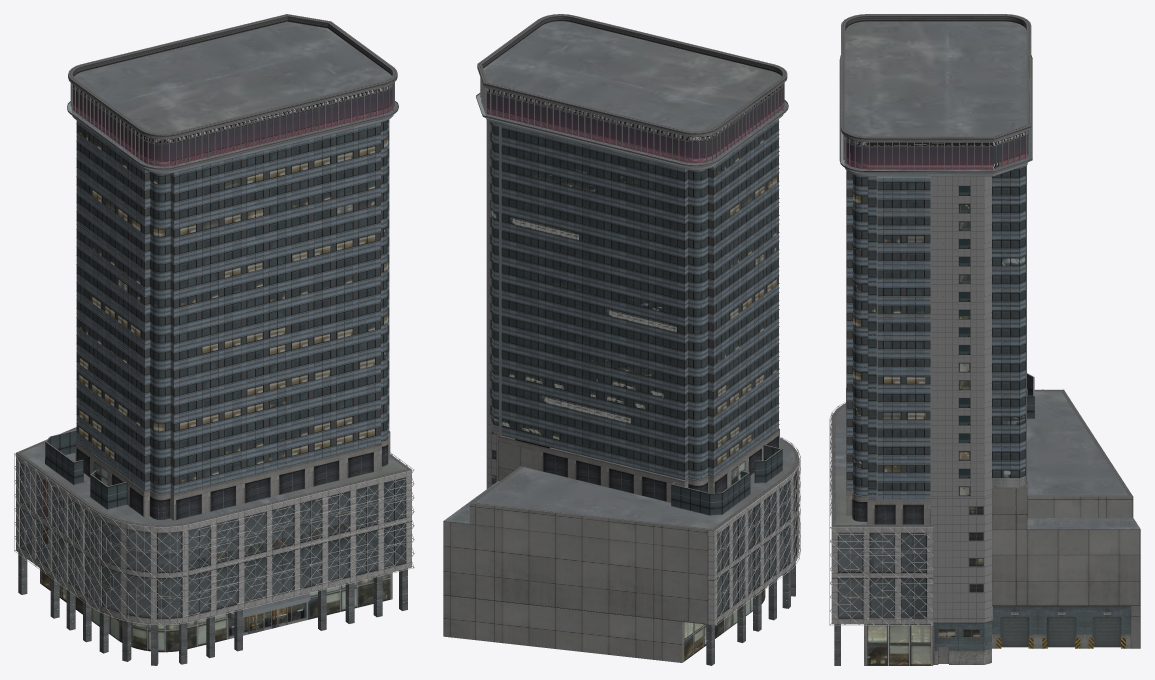
File: skyscraper.glb
3 views of the same model, side by side, from view 1: azimuth 30°, elevation 25°; view 2: azimuth 150°, elevation 25°; view 3: azimuth 270°, elevation 25° (orthographic). The views are drawn at different scales.
Visible parts, largest first — view 1: Object_12, Object_10, Object_14, Object_8, Object_6, Object_18; view 2: Object_12, Object_6, Object_10, Object_18, Object_8, Object_14; view 3: Object_12, Object_6, Object_10, Object_14, Object_18, Object_8.
Boxes of the visible parts, box(x1,y1,x2,y2) form: Object_12: box(16, 14, 411, 665); Object_10: box(20, 462, 405, 618); Object_14: box(20, 464, 404, 618); Object_8: box(14, 452, 414, 625); Object_6: box(40, 431, 392, 599); Object_18: box(41, 132, 389, 643); Object_12: box(444, 14, 798, 665); Object_6: box(443, 429, 779, 662); Object_10: box(717, 470, 797, 615); Object_18: box(491, 139, 776, 659); Object_8: box(715, 437, 800, 625); Object_14: box(515, 439, 797, 615); Object_12: box(831, 14, 1140, 665); Object_6: box(846, 388, 1140, 665); Object_10: box(838, 533, 926, 618); Object_14: box(838, 533, 925, 617); Object_18: box(853, 193, 1025, 664); Object_8: box(829, 389, 1064, 625).
Size of the model in its own units: 59.28 by 106 by 56.44.
7 materials, 6 textured.
